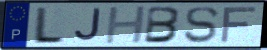B: (143, 6, 184, 45)
F: (218, 5, 260, 45)
H: (104, 5, 149, 46)
J: (72, 7, 102, 44)
L: (30, 5, 67, 45)
S: (183, 6, 220, 45)
